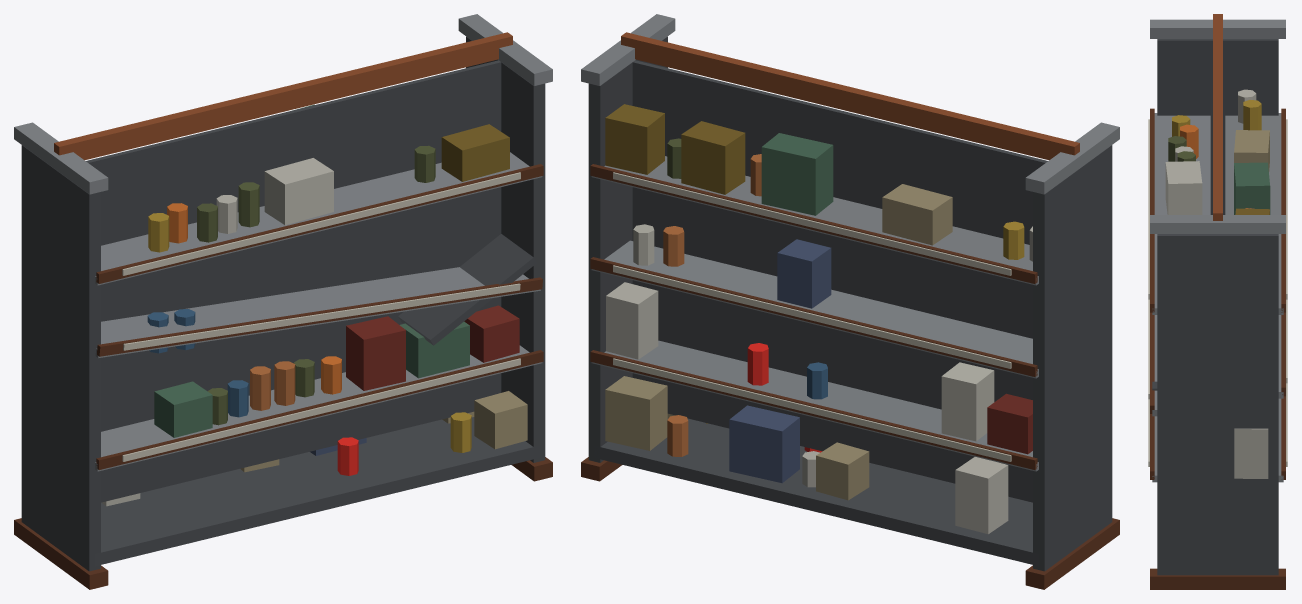
The model's file is furn_shop_shelf.fbx.
The picture shows the model from 3 angles, left to right: view 1: azimuth 30°, elevation 25°; view 2: azimuth 150°, elevation 25°; view 3: azimuth 270°, elevation 25°; orthographic projection. The views are drawn at different scales.
Parts seen in each view (by area): view 1: furn_shop_shelf; view 2: furn_shop_shelf; view 3: furn_shop_shelf.
Part boxes in pixels (x1=…): furn_shop_shelf: x1=14, y1=14, x2=552, y2=589; furn_shop_shelf: x1=581, y1=14, x2=1119, y2=589; furn_shop_shelf: x1=1148, y1=14, x2=1287, y2=589.
Size of the model in its own units: 1.98 by 1.7 by 0.574.
